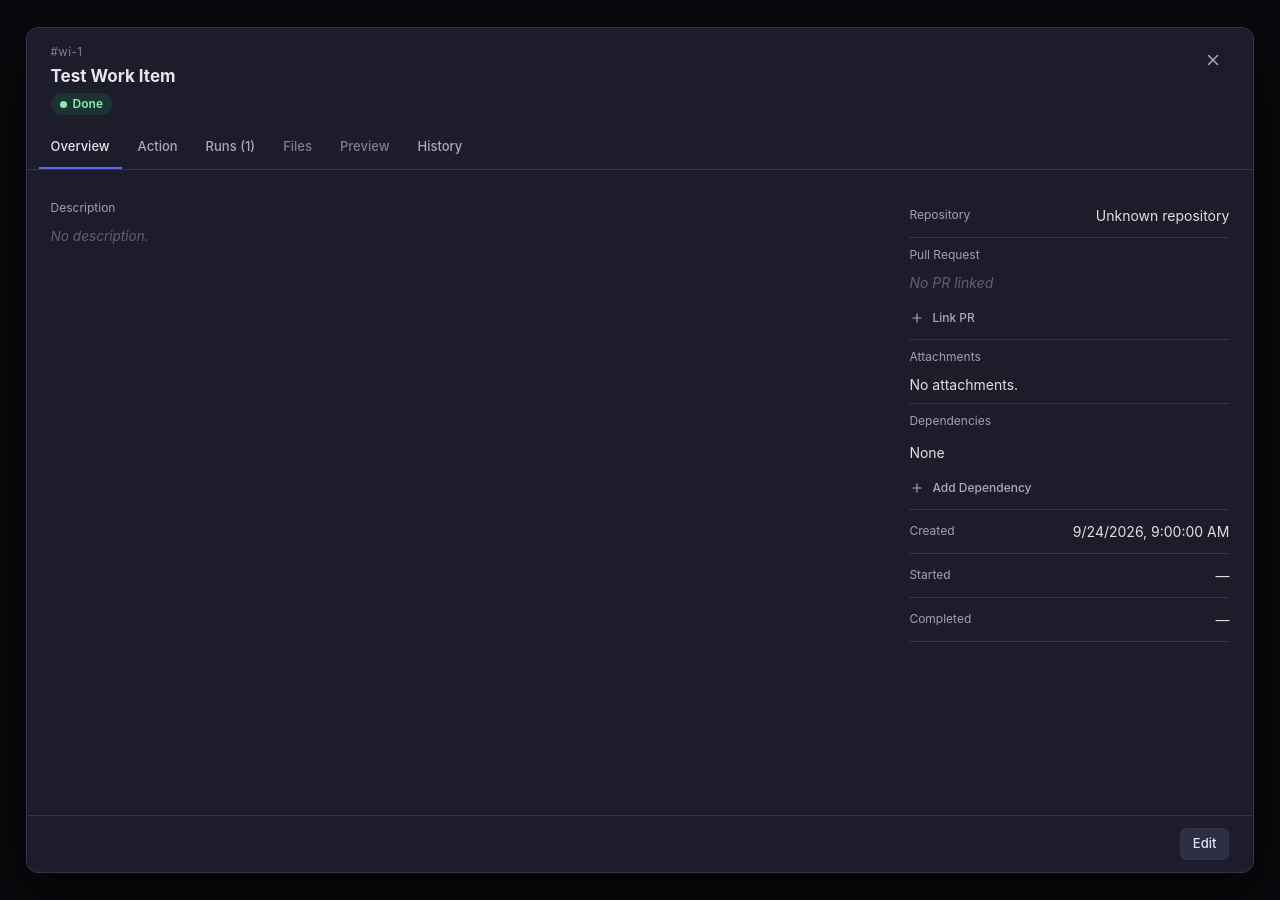
the Action tab thread › is the latest run's conversation in event order: AI turns on the AI side, replies on the human side, run events as compact rows, each with its time
This screenshot has width=1280, height=900.
Step 1. Click the tab "Action" → (158, 148), box [126, 127, 190, 169]
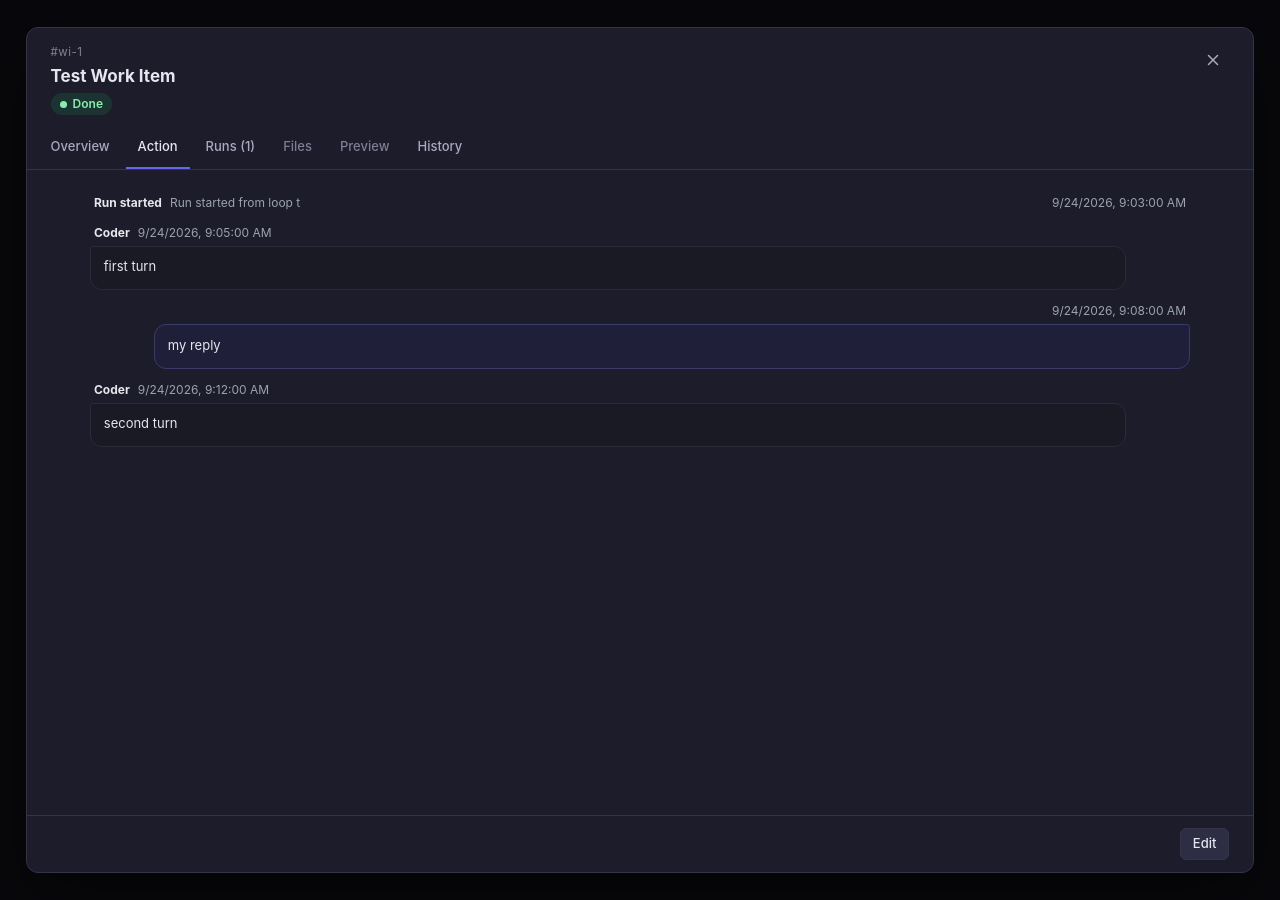
Expected: the text "Coder" next to "9/24/2026, 9:05:00 AM" is shown, [94, 225, 130, 240]
Expected: the text "Run started" is shown, [94, 194, 162, 212]
